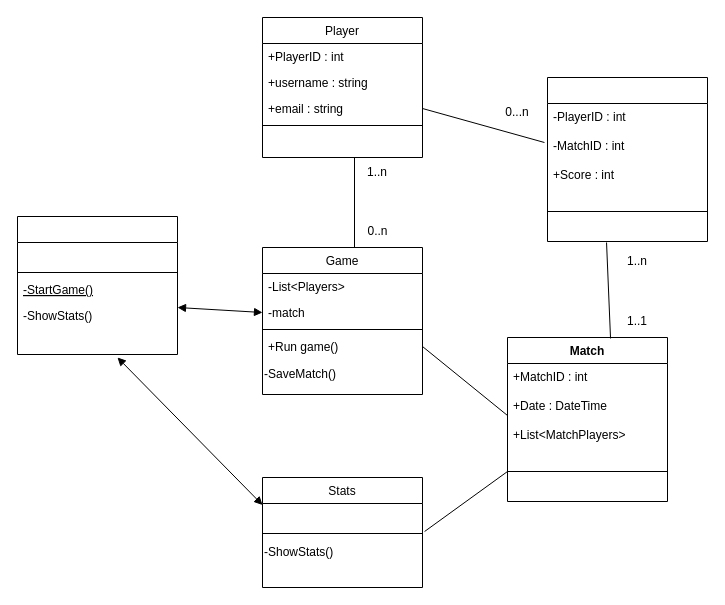
Some shapes in this 725 by 605 pixel diagram are drawn without their labels. Here are the shapes that lost their labels. From the top down, the box of each, then its label:
(546, 76, 708, 242): MatchPlayer
(16, 216, 178, 354): Main Menu
